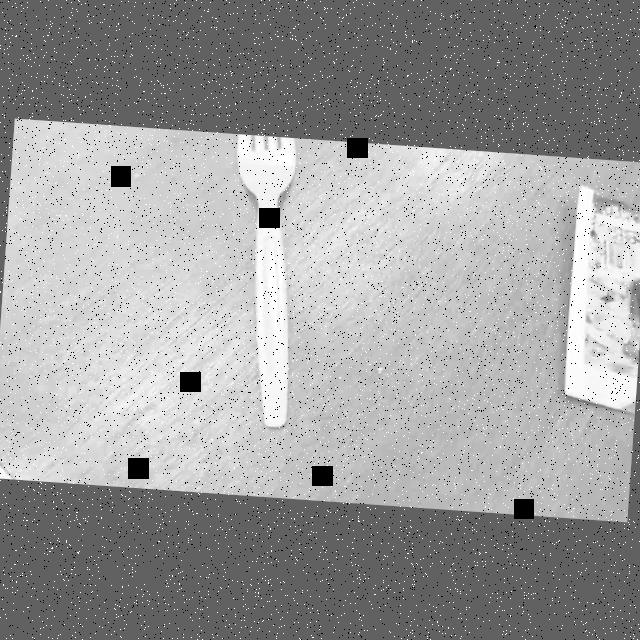plastic_cultery: (218, 135, 310, 431)
